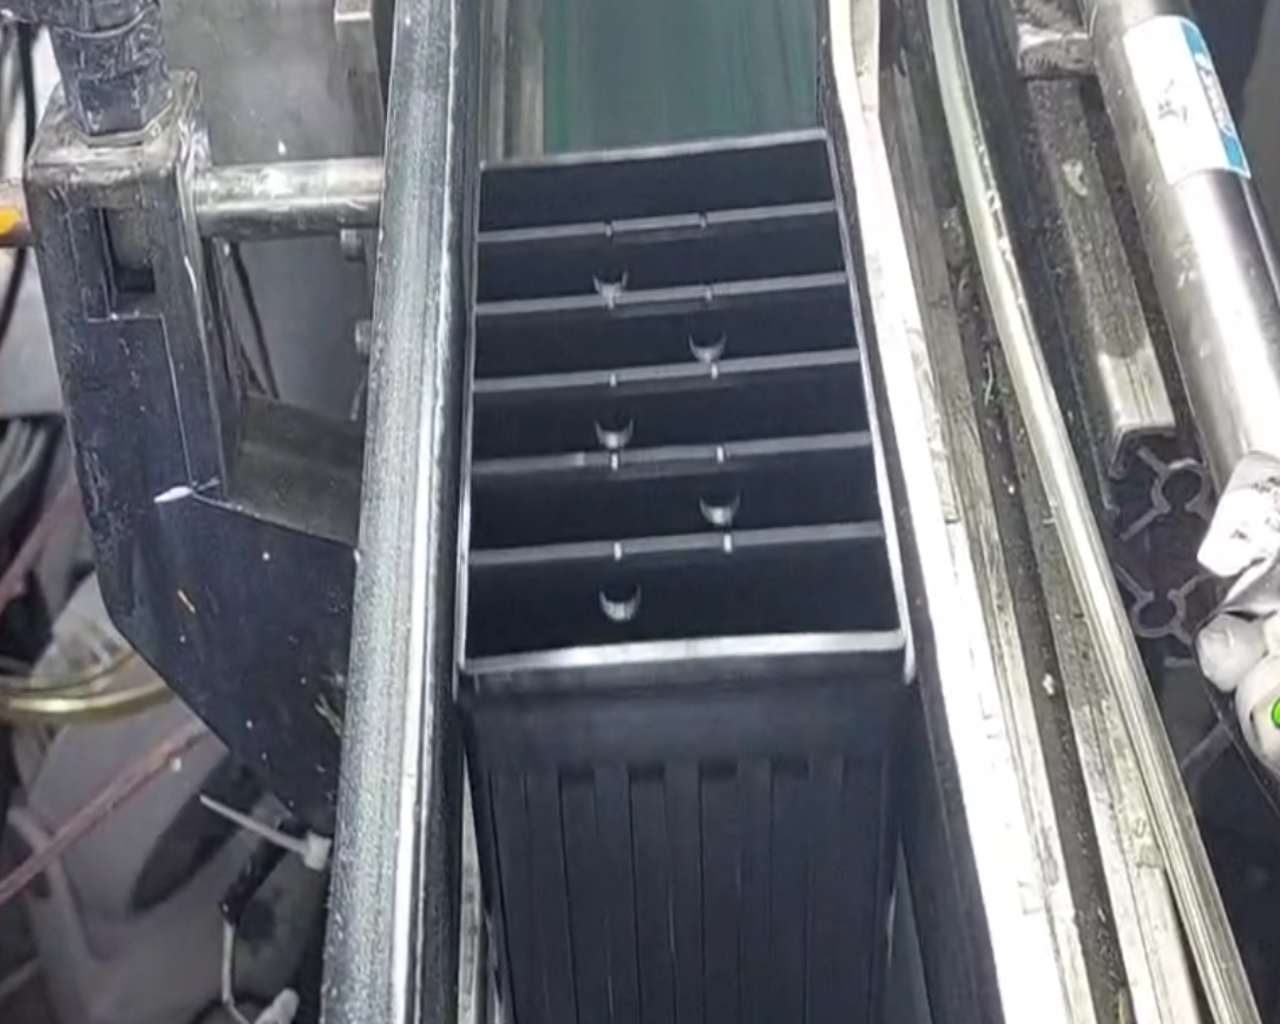box: (425, 107, 937, 718)
round: (580, 563, 658, 631), (680, 467, 753, 534), (574, 394, 647, 458), (672, 308, 737, 371), (575, 248, 642, 301)
